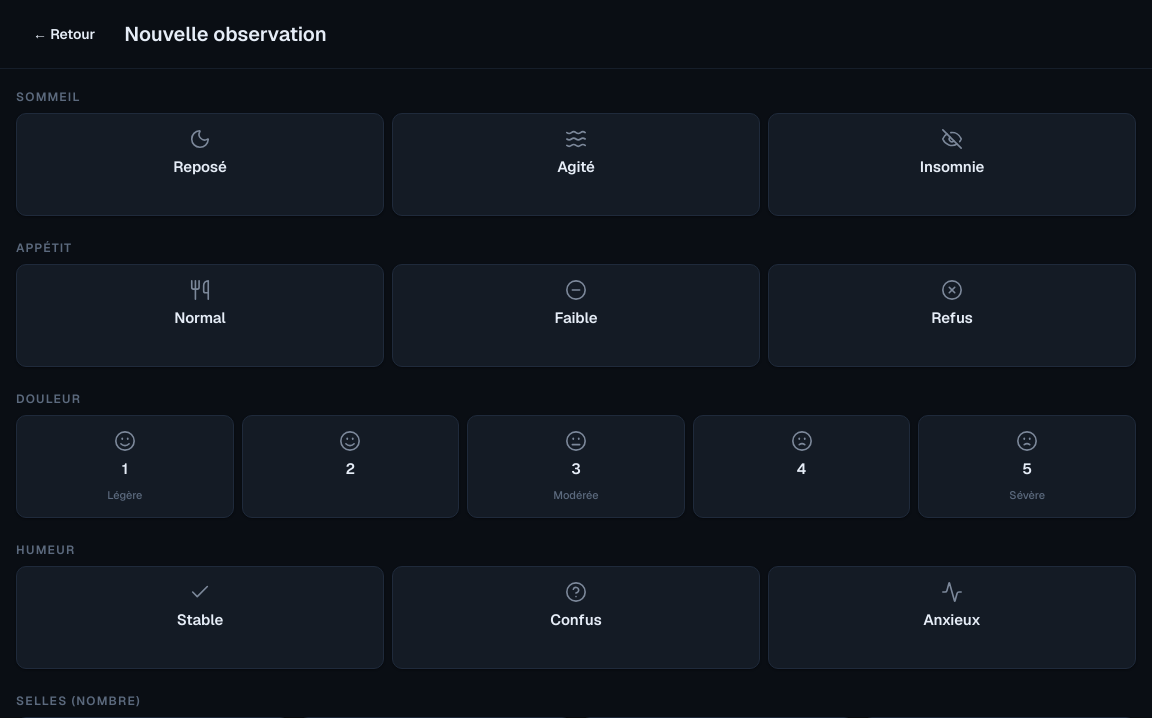
Test: PatientDetailPage › enables submit button after selecting a sleep value
Step 1. Click the radio button labelled "Reposé" → (200, 164), box top-left (16, 113), bottom-right (384, 216)
(page scrolled)
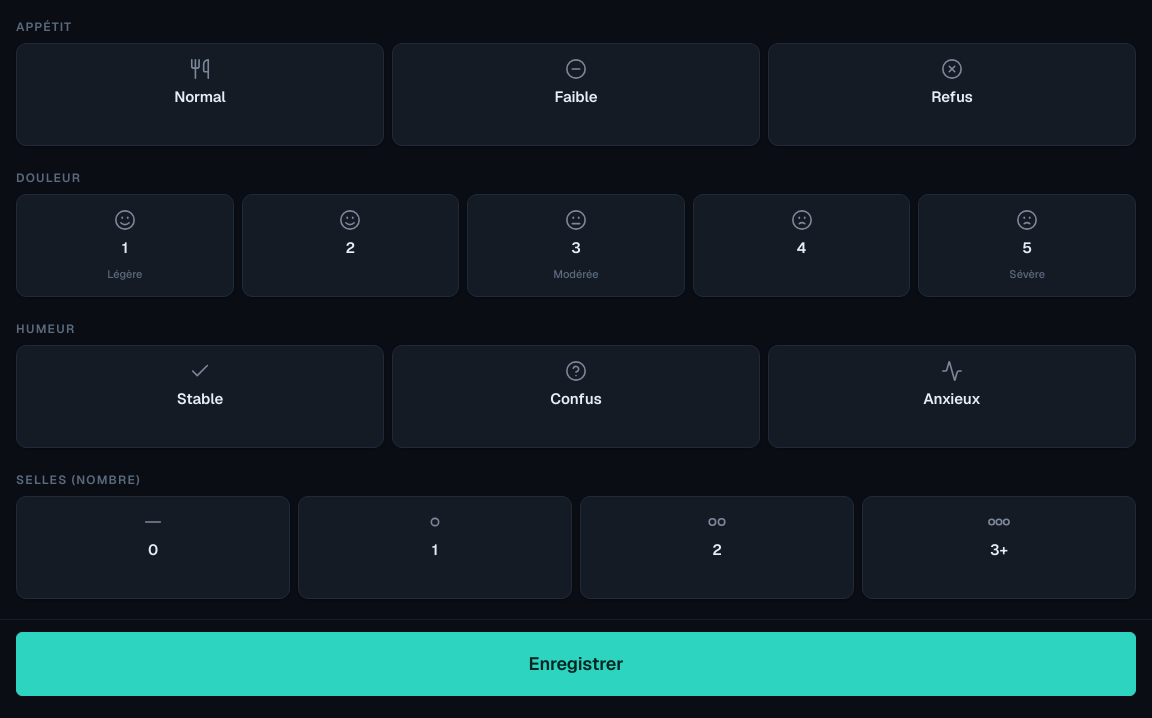
Check: the button "Enregistrer" is enabled, box top-left (16, 632), bottom-right (1136, 696)
